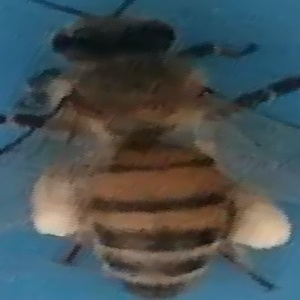bee: (7, 1, 298, 300)
